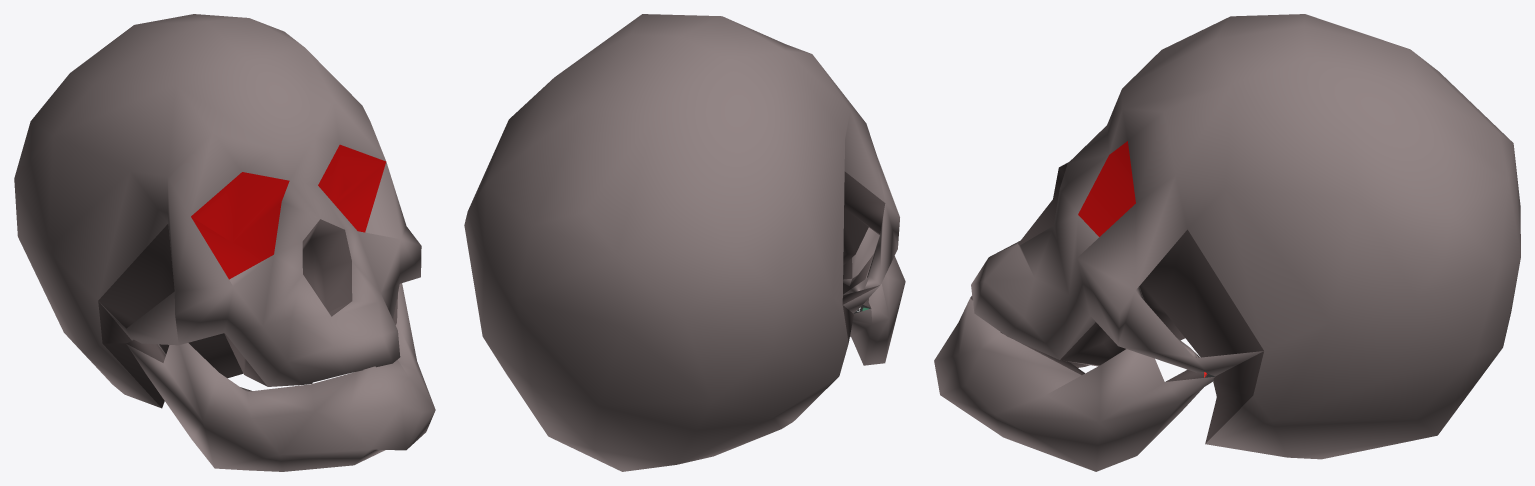
File: HWN20_Skull_02.glb
3 renders of one model, left to right at view 1: azimuth 30°, elevation 25°; view 2: azimuth 150°, elevation 25°; view 3: azimuth 270°, elevation 25°, orthographic. The views are drawn at different scales.
Visible parts, largest first — view 1: HWN20_Skull_02; view 2: HWN20_Skull_02; view 3: HWN20_Skull_02.
Boxes of the visible parts, box(x1,y1,x2,y2) form: HWN20_Skull_02: box(14, 14, 435, 471); HWN20_Skull_02: box(464, 14, 905, 471); HWN20_Skull_02: box(934, 14, 1520, 471).
Size of what is drawn, in the model's own units: 0.2146 by 0.2467 by 0.3208.
Materials: 2 (2 with a texture image).
